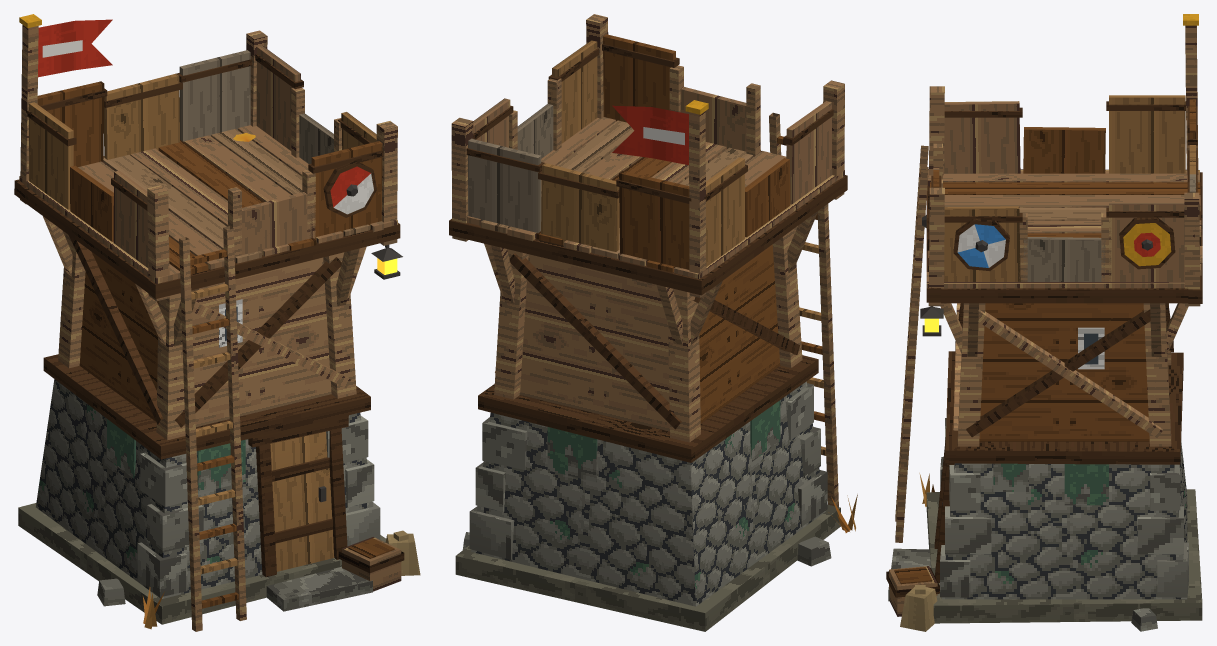
Rendered from defense_tower.glb.
The picture shows the model from 3 angles, left to right: view 1: azimuth 30°, elevation 25°; view 2: azimuth 150°, elevation 25°; view 3: azimuth 270°, elevation 25°; orthographic projection. The views are drawn at different scales.
Visible parts, largest first — view 1: defense_tower, sway_flag; view 2: defense_tower, sway_flag; view 3: defense_tower.
Boxes of the visible parts, x1=… form: defense_tower: x1=14, y1=14, x2=420, y2=631; sway_flag: x1=38, y1=19, x2=112, y2=77; defense_tower: x1=449, y1=14, x2=857, y2=631; sway_flag: x1=612, y1=105, x2=688, y2=165; defense_tower: x1=886, y1=14, x2=1202, y2=631.
Size of the model in its own units: 3.55 by 6.13 by 3.55.
Materials: 31 (23 with a texture image).
